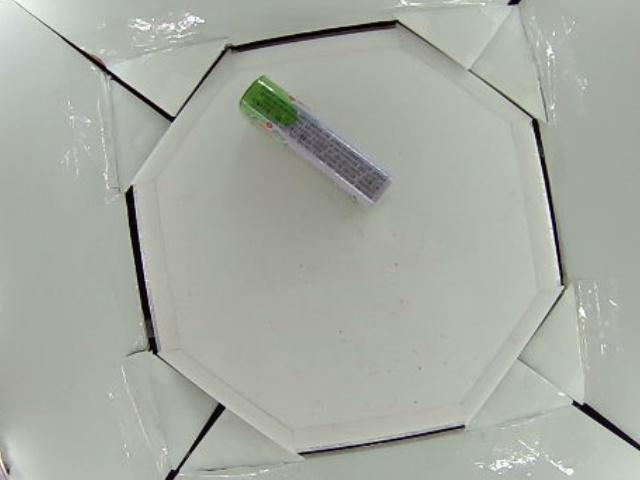Bottle: (233, 74, 391, 209)
